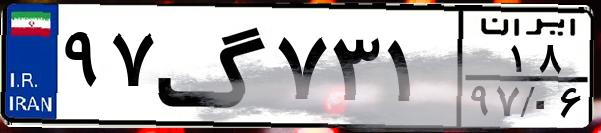0: (535, 70, 560, 125)
1: (385, 28, 445, 110), (508, 27, 537, 80)
3: (330, 28, 385, 110)
6: (560, 70, 590, 125)
7: (270, 28, 330, 110), (110, 28, 156, 98), (495, 70, 520, 125)
8: (537, 27, 568, 80)
9: (57, 26, 110, 100), (470, 70, 495, 125)
گ: (156, 12, 270, 120)
